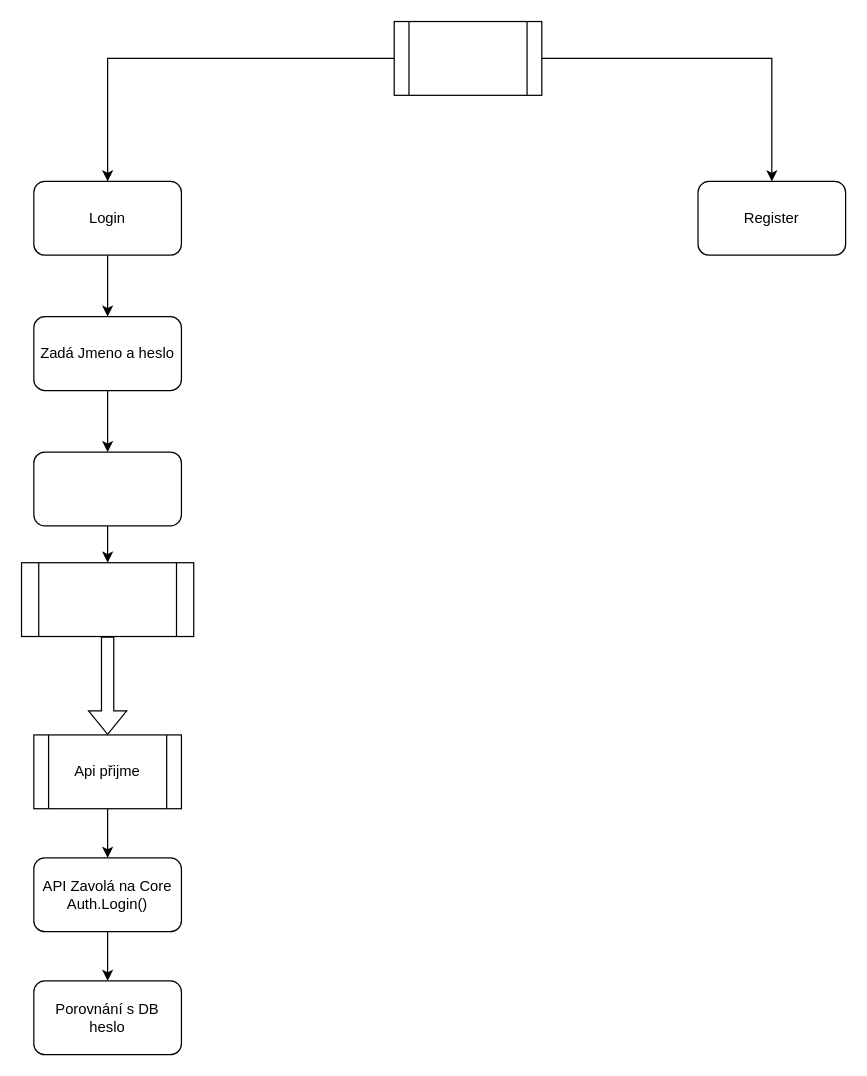
Image size: 867x1076. Some labels were removed from this diagram. Here are the shapes that lost their labels. From the top down, the centre of each, then its label:
the point at 467,57: App on
the point at 107,488: Heslo se hashne
the point at 107,599: Odešle se na API /login Jmeno a hash hesla
